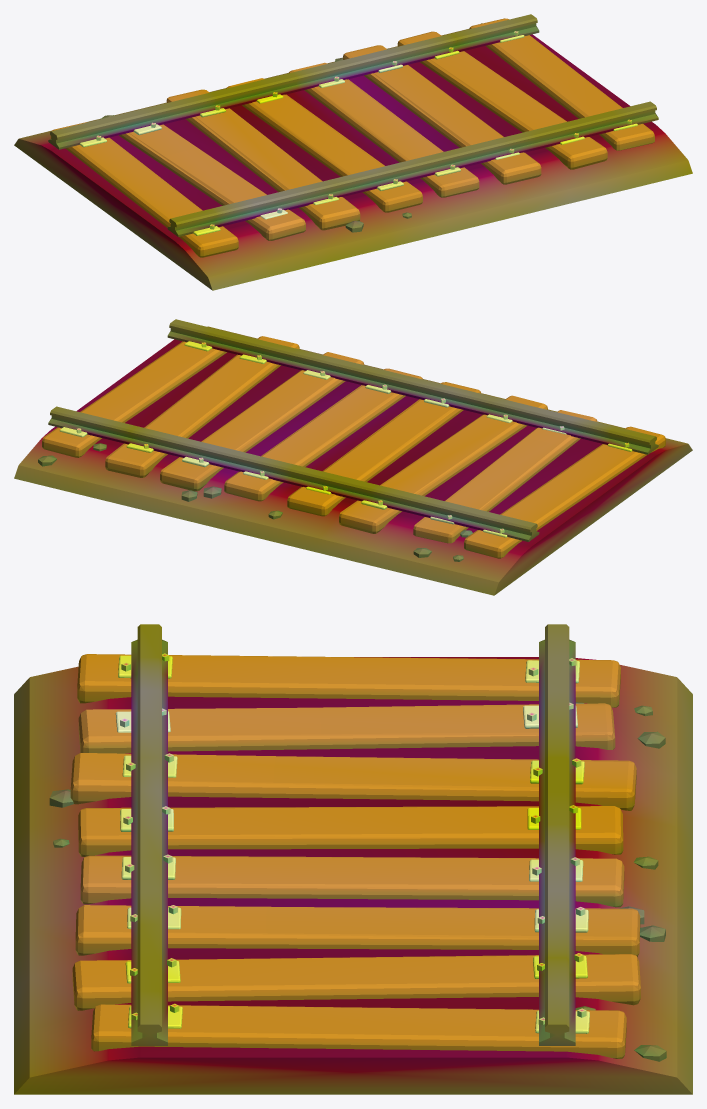
File: Track_Straight_6m.fbx
The picture shows the model from 3 angles, top to bottom: view 1: azimuth 30°, elevation 25°; view 2: azimuth 150°, elevation 25°; view 3: azimuth 270°, elevation 25°; orthographic projection. The views are drawn at different scales.
Visible parts, largest first — view 1: Track_Straight_6m; view 2: Track_Straight_6m; view 3: Track_Straight_6m.
Boxes of the visible parts, x1,y1,x2,y2 form: Track_Straight_6m: (14,14,692,290); Track_Straight_6m: (14,319,692,595); Track_Straight_6m: (14,624,692,1094).
Size of the model in its own units: 6 by 0.49 by 4.3.
